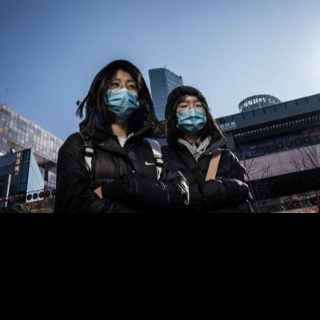with_mask: (103, 76, 140, 124), (176, 98, 208, 135)
